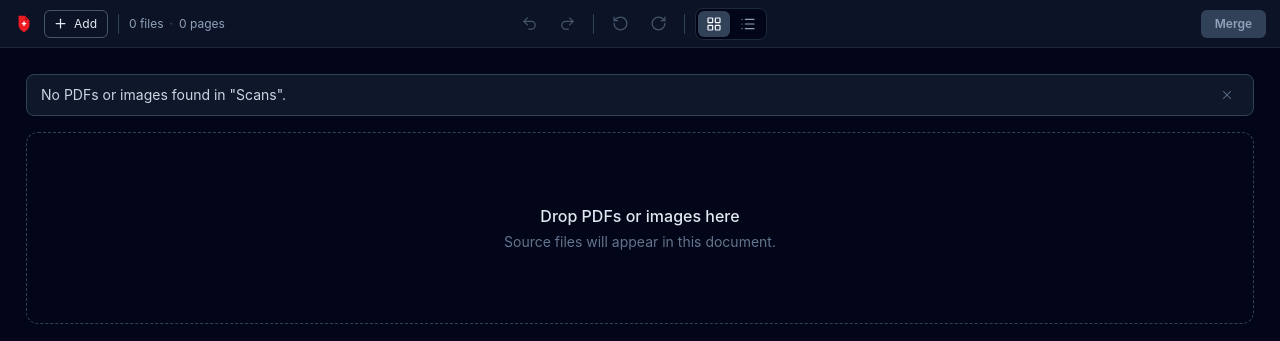
Test: AppShell › shows the source notice above the document and dismisses it
The image size is (1280, 341).
Click the button named "Dismiss".
click(1227, 95)  # box left=1215, top=83, right=1239, bottom=107
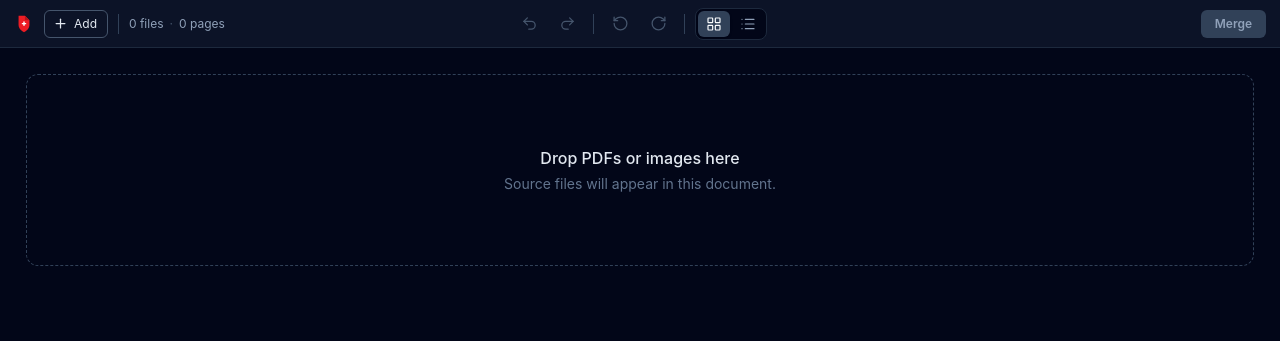
Result: the text "No PDFs or images found in \"Scans\"." is gone
